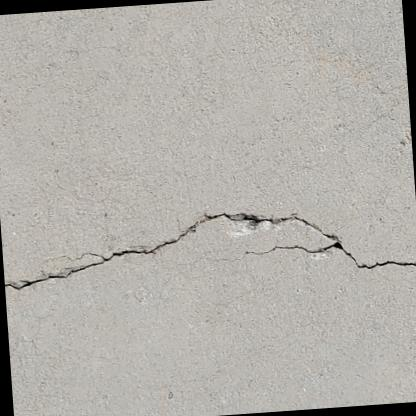crack: (5, 212, 416, 290)
